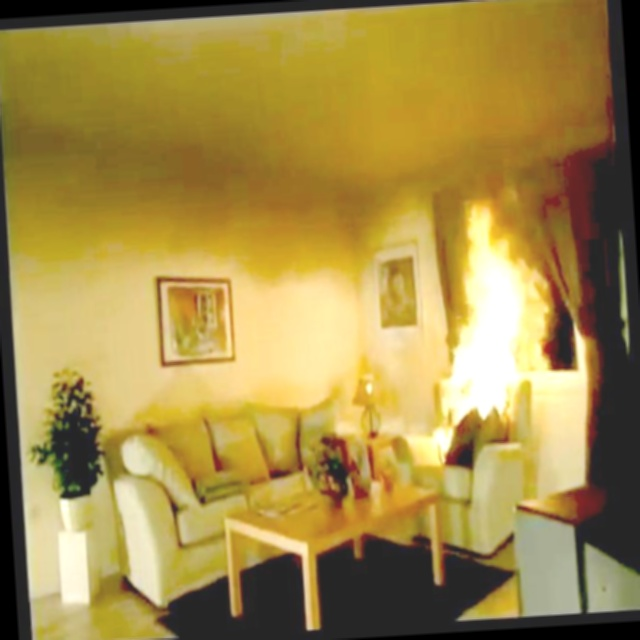fire: (416, 197, 555, 432)
